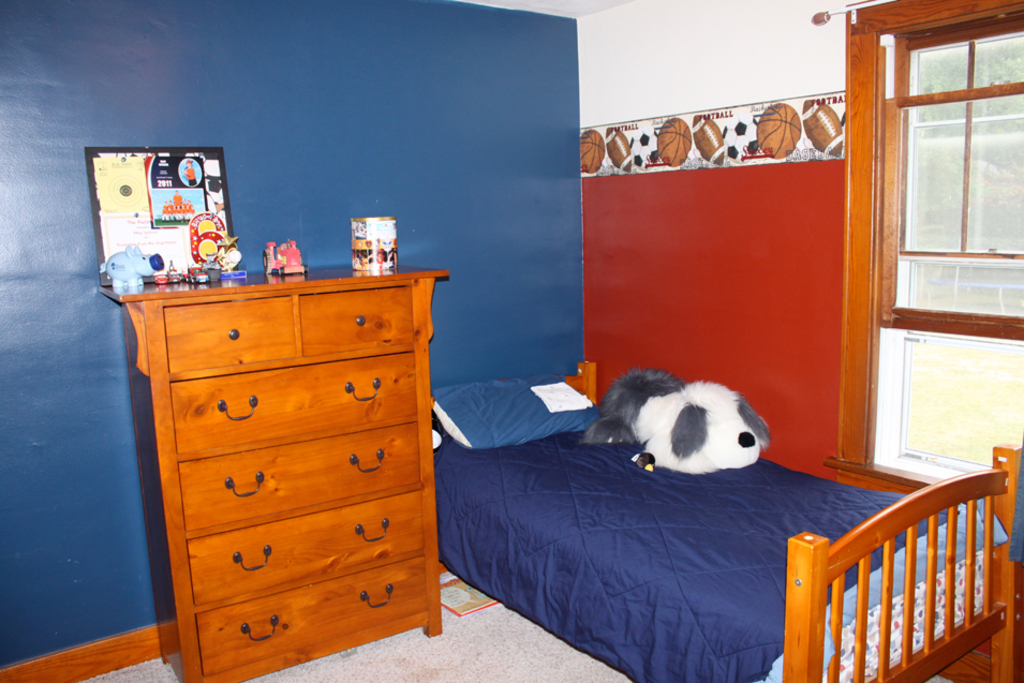cabinet door: (178, 369, 412, 431), (188, 511, 419, 573), (196, 585, 423, 646), (188, 437, 414, 497), (166, 302, 299, 361), (297, 295, 414, 348)
handle: (227, 546, 281, 579), (344, 448, 397, 476), (222, 471, 273, 500), (237, 618, 286, 648), (342, 376, 390, 406), (351, 516, 396, 548), (217, 397, 265, 422), (356, 584, 398, 612), (226, 327, 242, 344), (353, 314, 370, 329)
